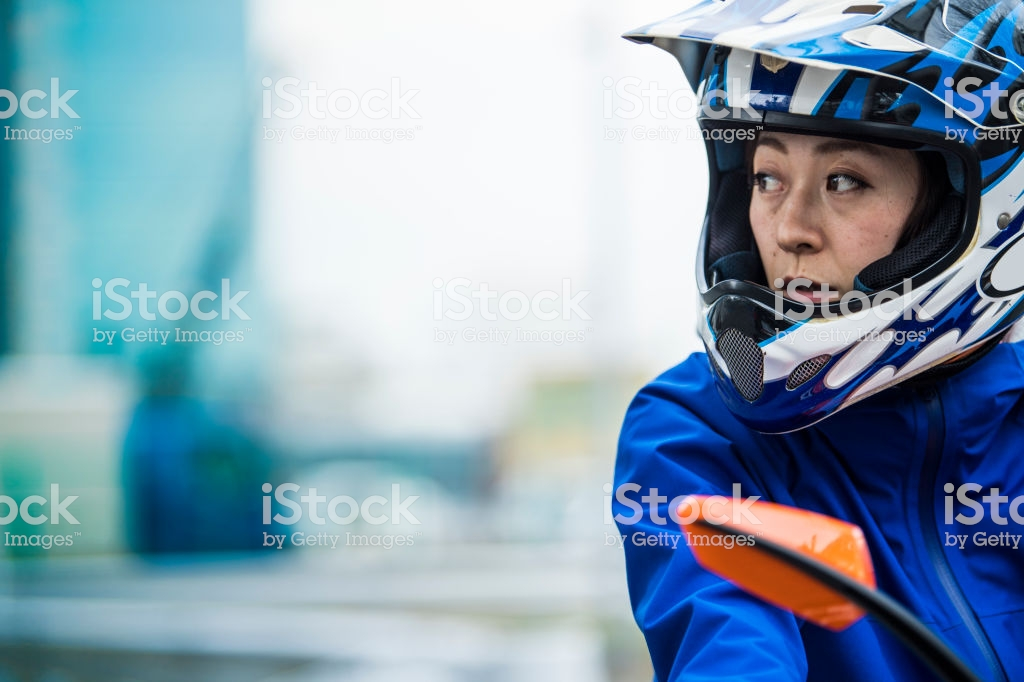helmet: (667, 1, 1024, 396)
